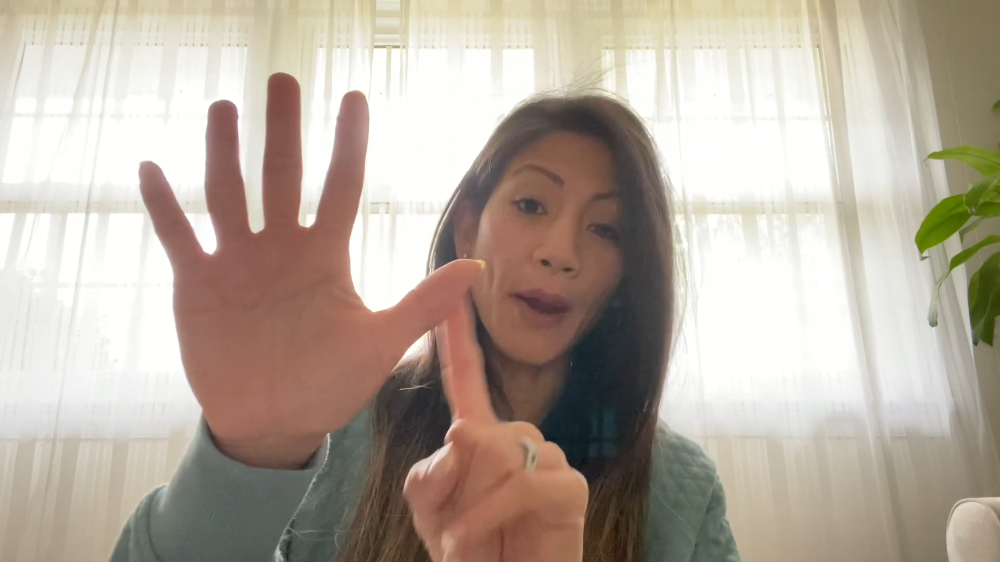hello: (139, 74, 473, 445)
